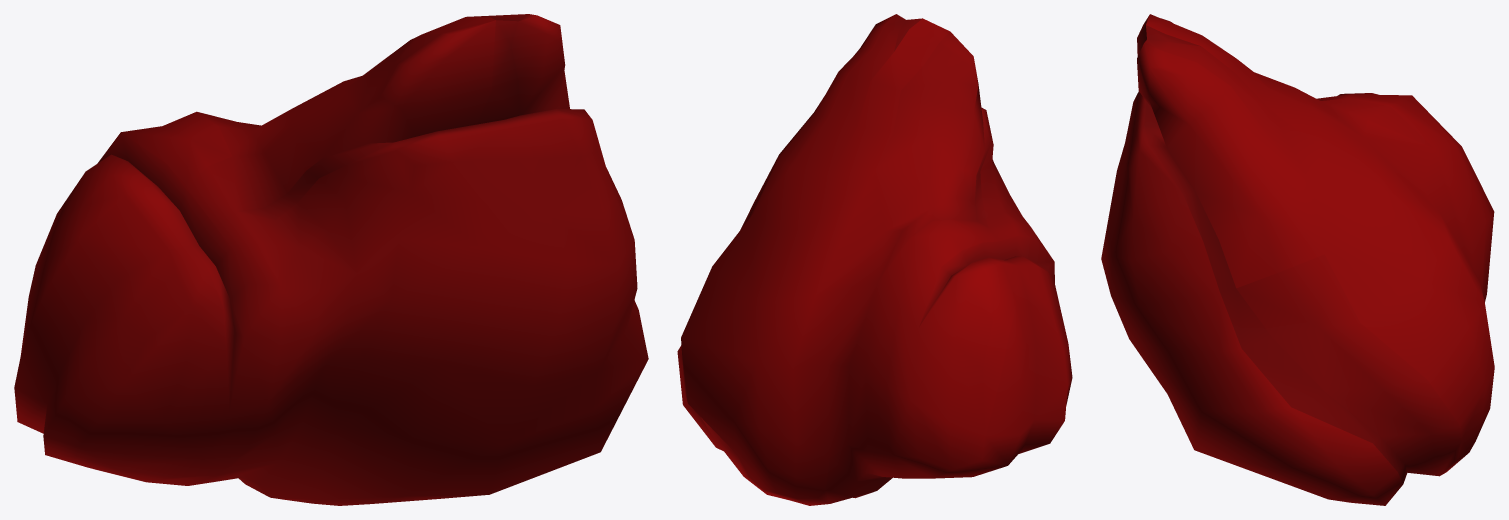
Rendered from geology-rocks-slantedrock_v5.fbx.
3 renders of one model, left to right at view 1: azimuth 30°, elevation 25°; view 2: azimuth 150°, elevation 25°; view 3: azimuth 270°, elevation 25°, orthographic. The views are drawn at different scales.
Parts seen in each view (by area): view 1: SlantedRock_v5; view 2: SlantedRock_v5; view 3: SlantedRock_v5.
Boxes of the visible parts, <box> form: SlantedRock_v5: <box>14,14,648,505</box>; SlantedRock_v5: <box>677,14,1072,505</box>; SlantedRock_v5: <box>1101,14,1494,505</box>.
Bounding box in the file's own units: 14.02 × 13.67 × 10.97.
